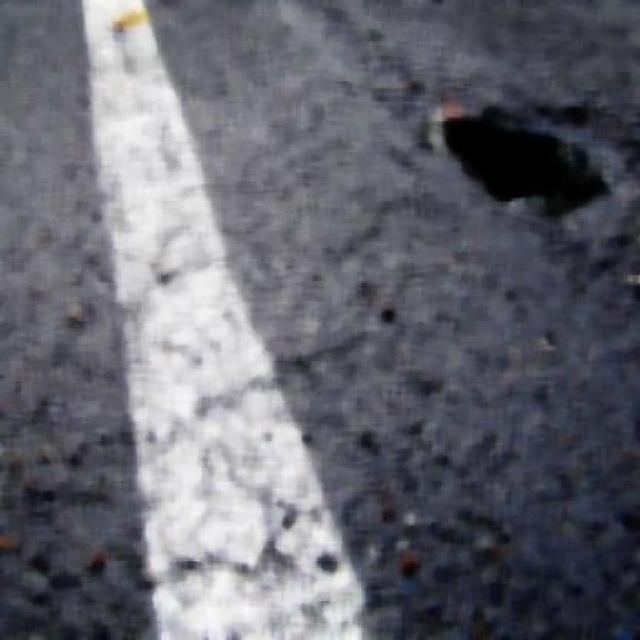Pothole: (432, 95, 638, 274)
